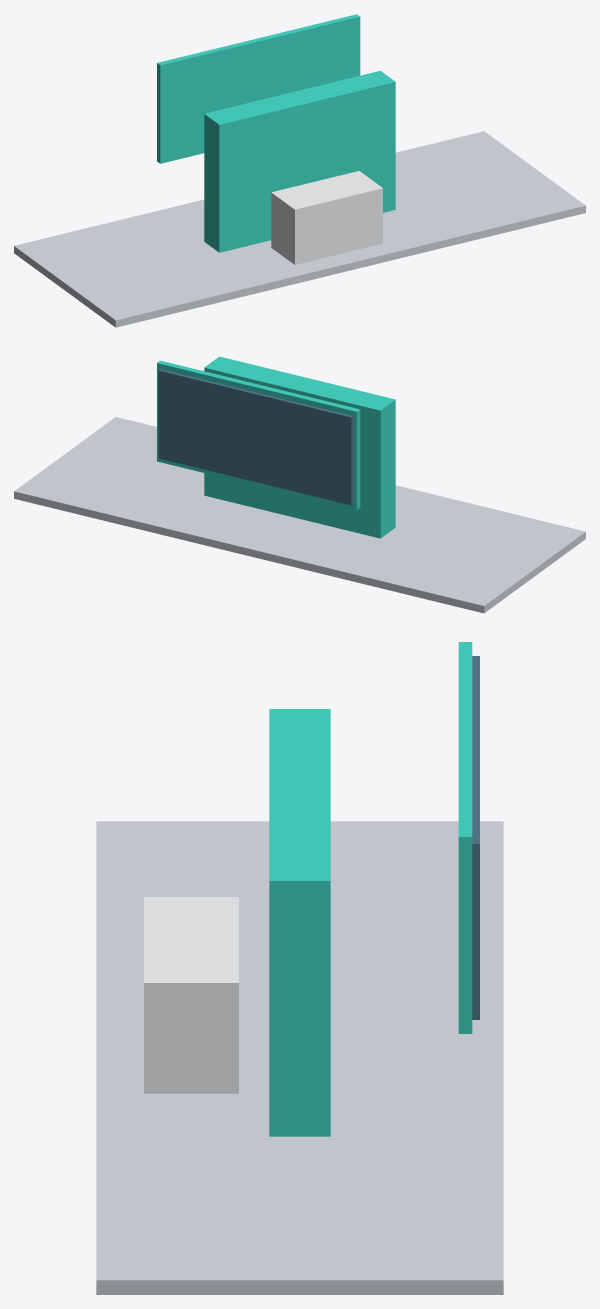
3 renders of one model, top to bottom at view 1: azimuth 30°, elevation 25°; view 2: azimuth 150°, elevation 25°; view 3: azimuth 270°, elevation 25°, orthographic. The views are drawn at different scales.
Parts seen in each view (by area): view 1: Exhibition Booth Concept; view 2: Exhibition Booth Concept; view 3: Exhibition Booth Concept.
Boxes of the visible parts, x1,y1,x2,y2 form: Exhibition Booth Concept: [14, 14, 585, 327]; Exhibition Booth Concept: [14, 356, 585, 613]; Exhibition Booth Concept: [96, 642, 503, 1294].
Bounding box in the file's own units: 8 × 2.65 × 3.
